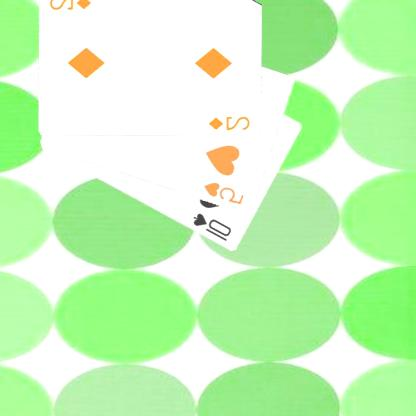10S: (192, 210, 235, 243)
2D: (208, 114, 254, 132), (49, 0, 94, 12)
5H: (203, 180, 248, 206)
